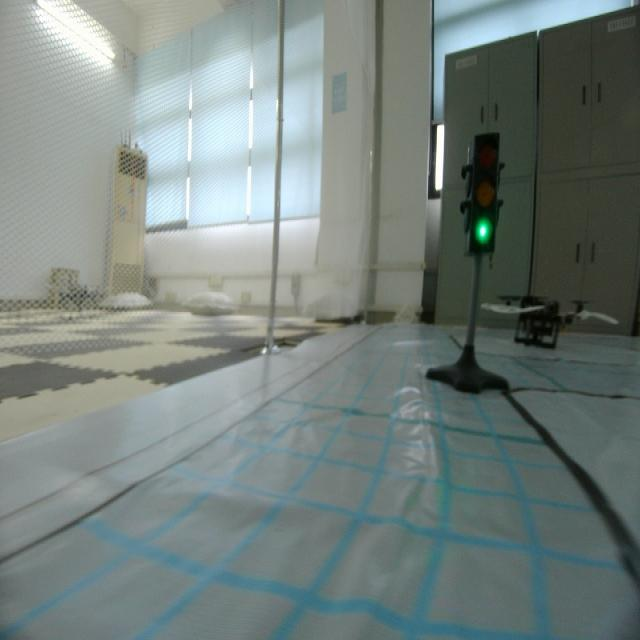green: (465, 125, 501, 256)
